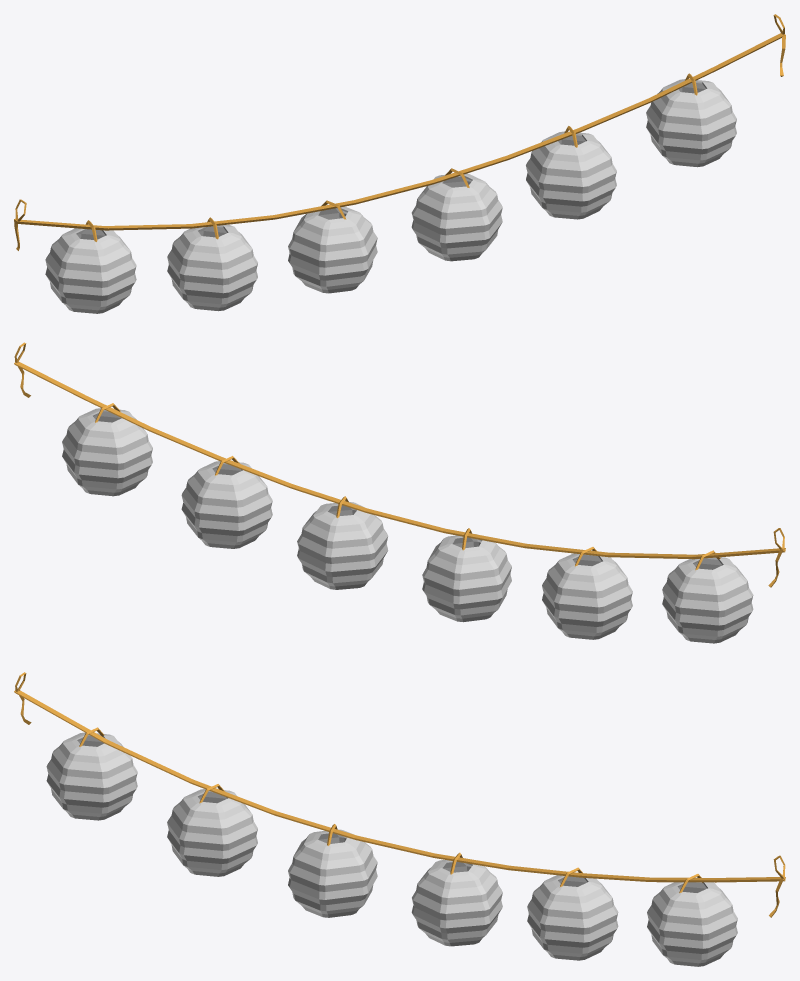
File: lanterns-on-string-3m.fbx
3 views of the same model, one above another, from view 1: azimuth 30°, elevation 25°; view 2: azimuth 150°, elevation 25°; view 3: azimuth 330°, elevation 25° (orthographic).
Parts seen in each view (by area): view 1: lanterns-on-string-3m; view 2: lanterns-on-string-3m; view 3: lanterns-on-string-3m.
Part boxes in pixels (left/top/right/bottom): lanterns-on-string-3m: left=14, top=14, right=785, bottom=313; lanterns-on-string-3m: left=14, top=342, right=785, bottom=643; lanterns-on-string-3m: left=14, top=672, right=785, bottom=966.
Bounding box in the file's own units: 3 × 0.6 × 0.3126.
